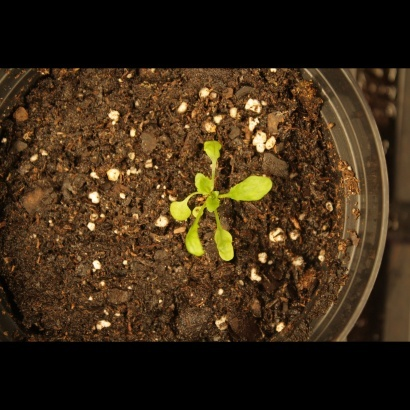leaf: (228, 172, 278, 208), (181, 212, 212, 261), (210, 222, 243, 266), (200, 137, 226, 171), (190, 167, 215, 201), (169, 196, 194, 223), (203, 190, 226, 213)
